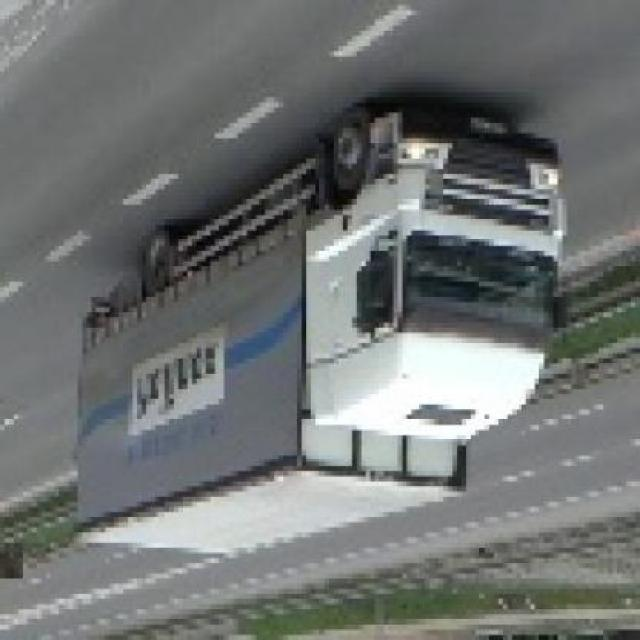truck: (79, 108, 573, 569)
